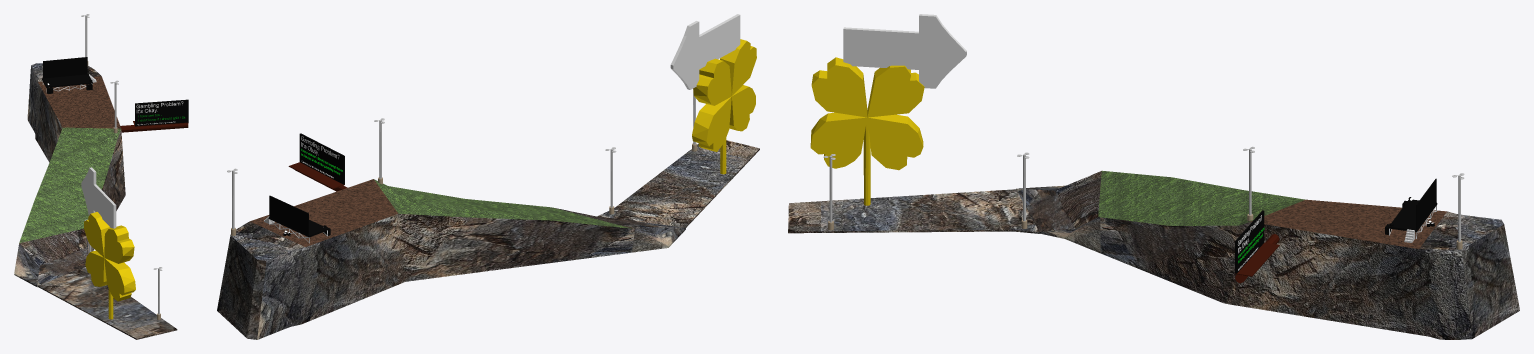
File: Music Stage.glb
3 views of the same model, side by side, from view 1: azimuth 30°, elevation 25°; view 2: azimuth 150°, elevation 25°; view 3: azimuth 270°, elevation 25° (orthographic). The views are drawn at different scales.
Parts seen in each view (by area): view 1: Ground, Clover, Ground.001, BillboardBack, Back, Post, Stage, Support, Text.004; view 2: Ground, Clover, Ground.001, BillboardBack, Back, Post, Stand, Text.004; view 3: Ground, Clover, Ground.001, Post, BillboardBack, Stage, Stand, Back.
Part boxes in pixels (<box>): Ground: <box>14,63,125,287</box>; Clover: <box>81,167,135,319</box>; Ground.001: <box>38,267,177,339</box>; BillboardBack: <box>135,99,188,126</box>; Back: <box>43,57,87,78</box>; Post: <box>81,14,162,319</box>; Stage: <box>42,74,92,87</box>; Support: <box>120,123,188,132</box>; Text.004: <box>136,101,183,125</box>; Ground: <box>217,179,685,339</box>; Clover: <box>670,14,756,174</box>; Ground.001: <box>597,140,759,227</box>; BillboardBack: <box>299,133,344,184</box>; Back: <box>269,195,308,235</box>; Post: <box>227,93,697,235</box>; Stand: <box>288,162,344,189</box>; Text.004: <box>301,136,342,178</box>; Ground: <box>1016,170,1519,339</box>; Clover: <box>810,14,966,205</box>; Ground.001: <box>788,189,1039,233</box>; Post: <box>823,146,1464,249</box>; BillboardBack: <box>1235,210,1264,273</box>; Stage: <box>1388,199,1437,232</box>; Stand: <box>1235,242,1279,276</box>; Back: <box>1416,178,1436,229</box>.
Size of the model in its own units: 61.02 by 33.04 by 114.
21 materials, 3 textured.
